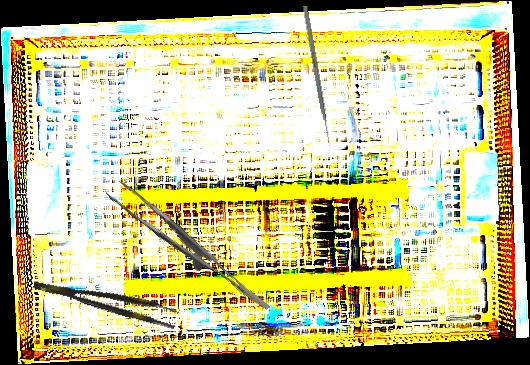Pusher: (302, 5, 333, 150)
Tissue Forceps: (105, 165, 271, 335), (32, 268, 180, 331)
